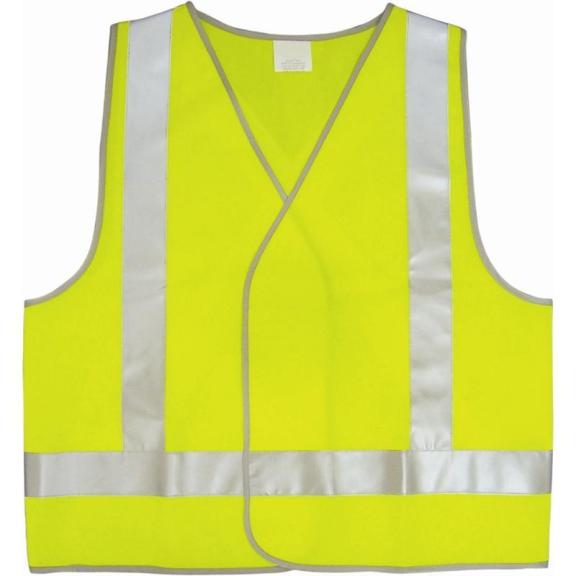safety_vest: (17, 0, 555, 572)
